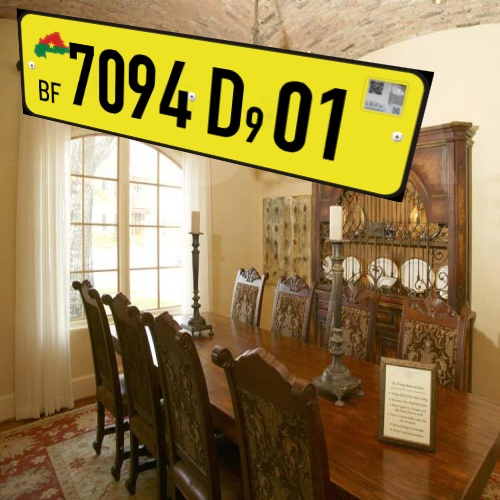plate: (12, 4, 451, 210)
